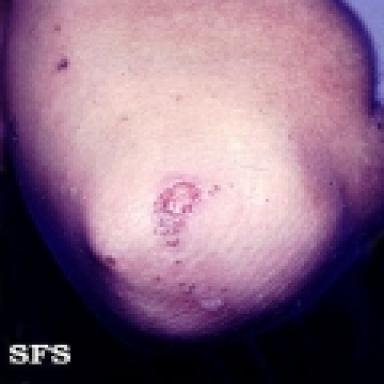Epidermolysis-Bullosa-Pruriginosa: (154, 180, 204, 248)
